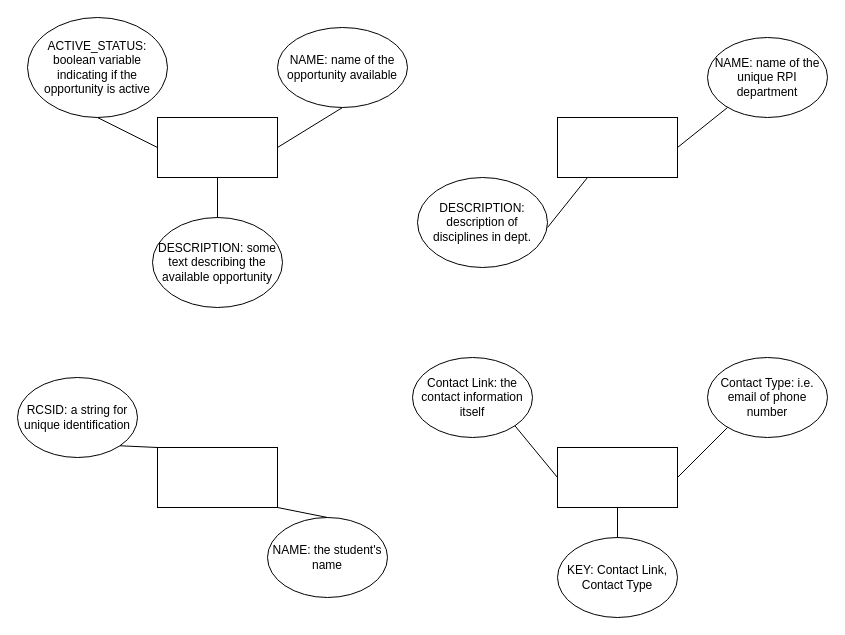
The diagram is 845 pixels wide and 635 high, and some of its shapes have lost their labels. The shapes that lost their labels are listed below. From the top down, each one's centre as x and y in pixels, then its label:
At (217,147): "OPPORTUNITIES".
At (617,147): "RPI DEPARTMENTS".
At (217,477): "LAB RUNNER".
At (617,477): "CONTACT LINKS".
